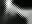person: (3, 1, 32, 24)
